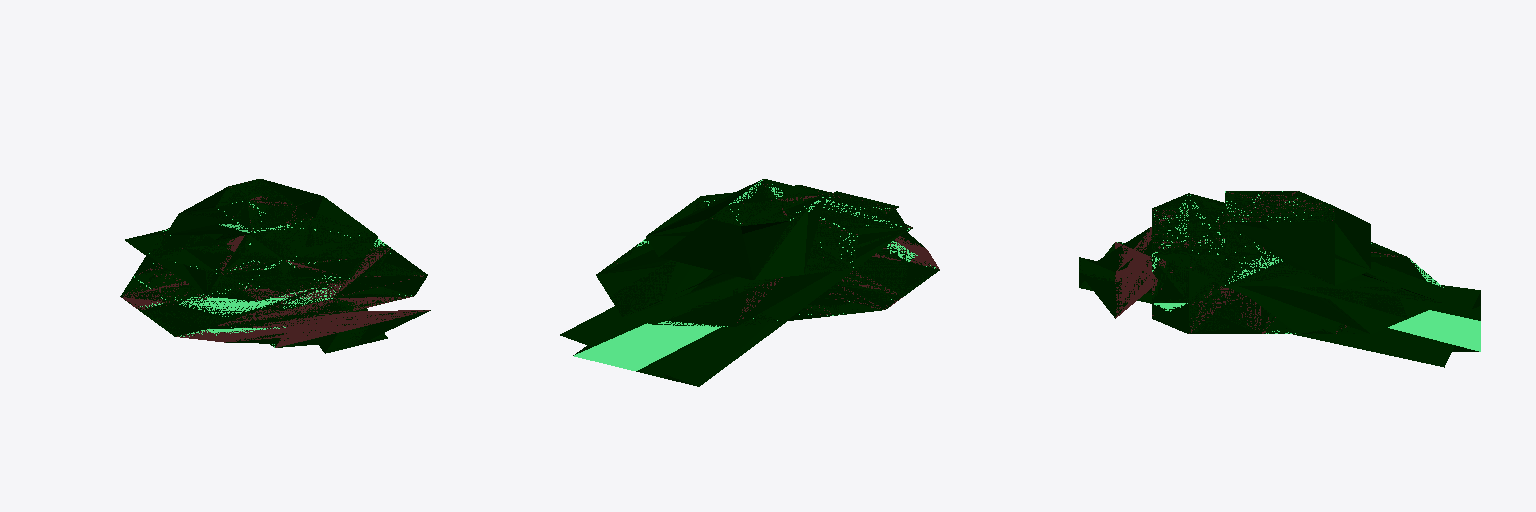
3 views of the same model, side by side, from view 1: azimuth 30°, elevation 25°; view 2: azimuth 150°, elevation 25°; view 3: azimuth 270°, elevation 25° (orthographic).
Size of the model in its own units: 8 by 3 by 11.
Materials: 1 (1 with a texture image).